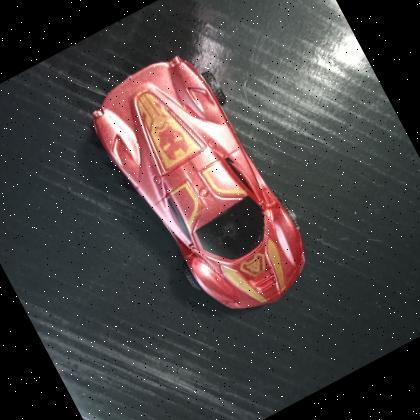Car: (70, 32, 334, 348)
